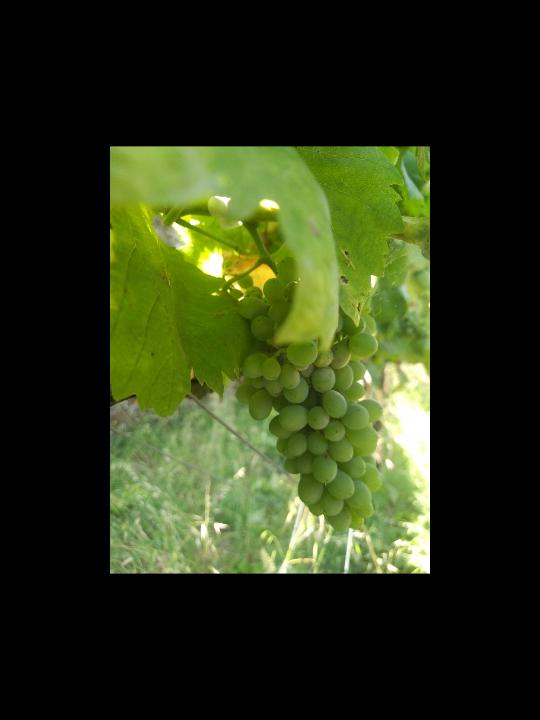grape: (236, 257, 389, 533)
